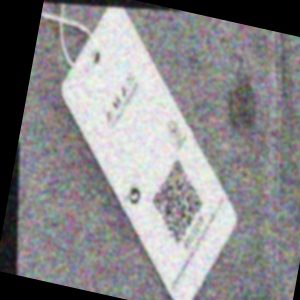zara: (91, 30, 193, 112)
